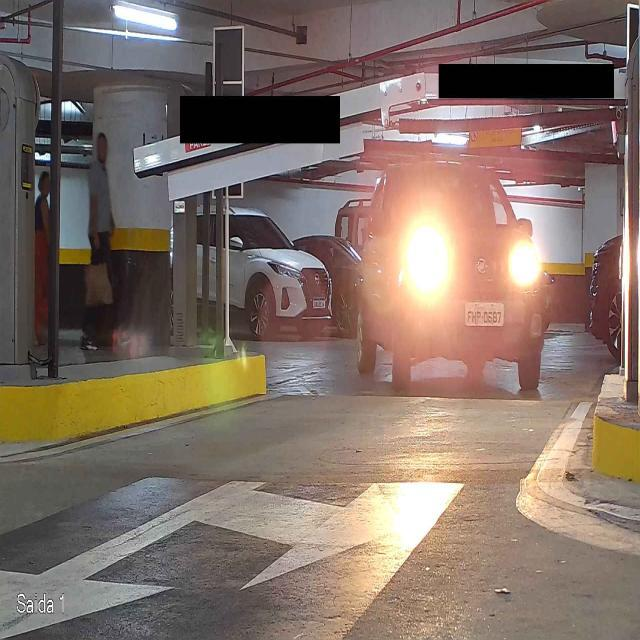old_plate: (462, 300, 507, 328)
